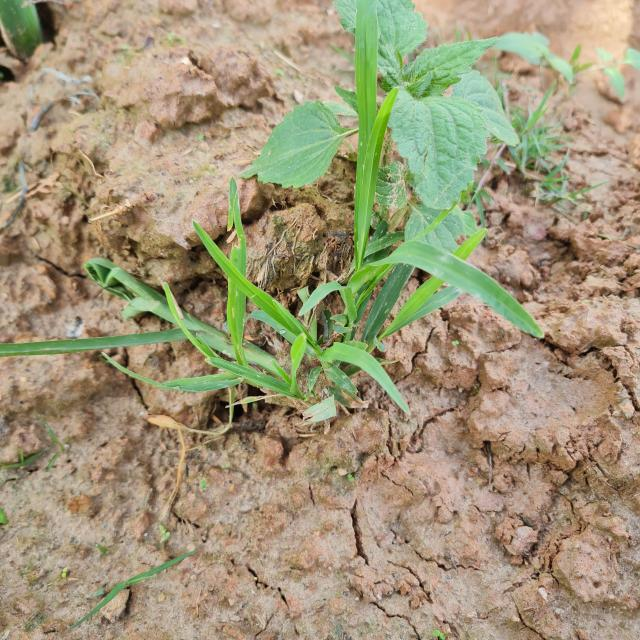weed: (106, 12, 540, 450)
